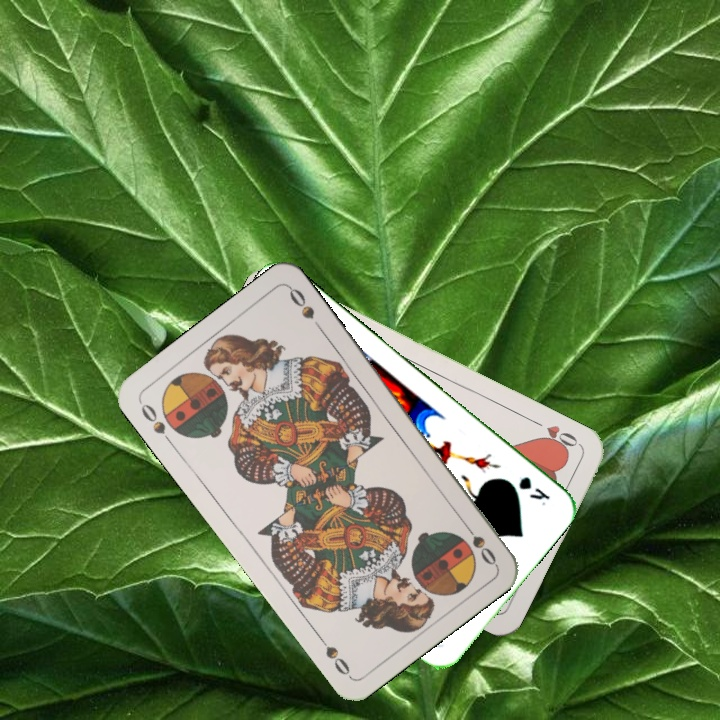GK: (514, 472, 553, 509)
HO: (527, 415, 583, 455)
SO: (458, 517, 499, 568), (135, 398, 176, 448)
